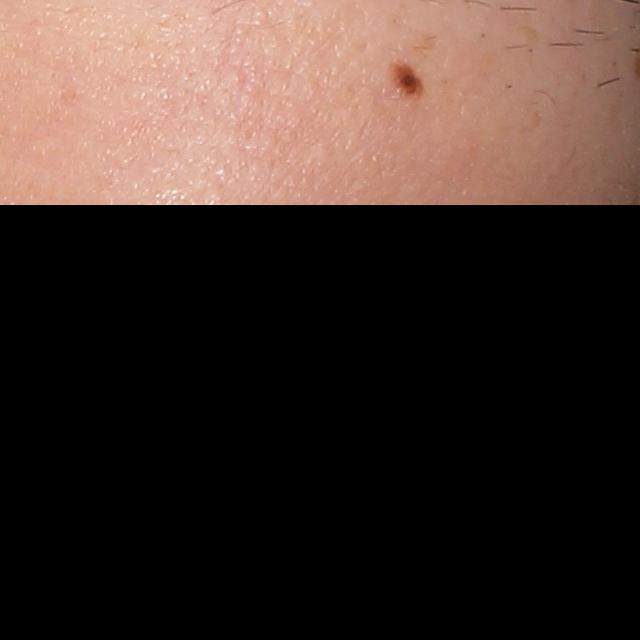nevus: (383, 57, 428, 100)
